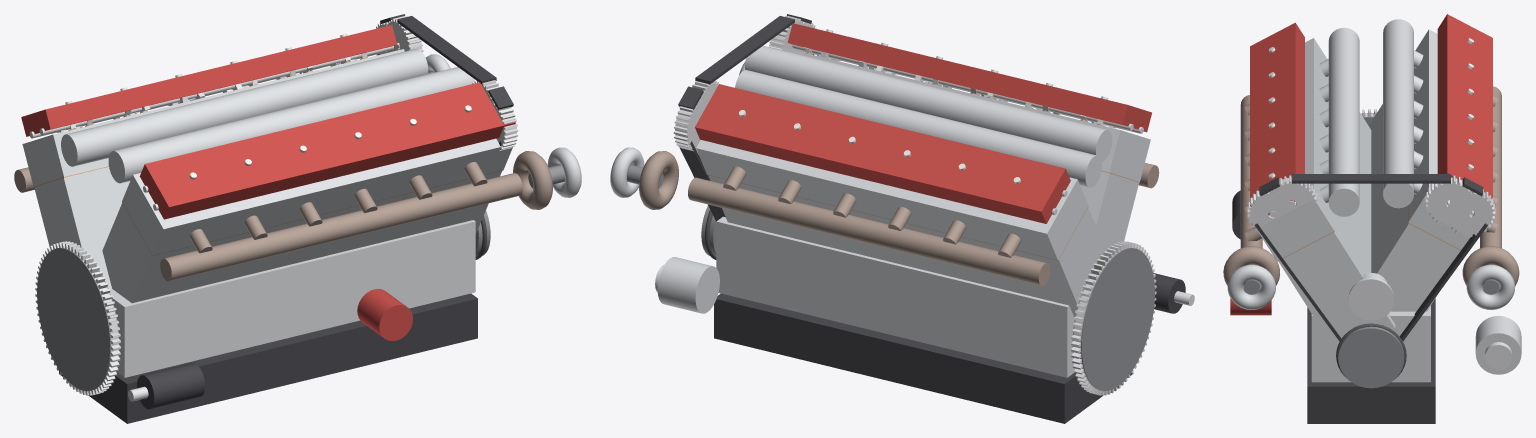
The model's file is combustion_12_v_60p0_8p6_8p6_dohc_4_si_correa_nafta.glb.
The picture shows the model from 3 angles, left to right: view 1: azimuth 30°, elevation 25°; view 2: azimuth 150°, elevation 25°; view 3: azimuth 270°, elevation 25°; orthographic projection. The views are drawn at different scales.
Visible parts, largest first — view 1: bloque, tapa_valvulas_1, carter, culata_1, multiple_admision_0, multiple_escape_1, volante_inercia, tapa_valvulas_0, multiple_admision_1, culata_0, turbo_1, motor_arranque (+5 smaller); view 2: bloque, tapa_valvulas_0, carter, culata_0, multiple_escape_0, multiple_admision_1, volante_inercia, multiple_admision_0, tapa_valvulas_1, turbo_0, culata_1, alternador (+5 smaller); view 3: bloque, tapa_valvulas_0, tapa_valvulas_1, multiple_admision_1, multiple_admision_0, carter, culata_1, distribucion_poleas, culata_0, polea_ciguenal, distribucion_correa, turbo_0 (+7 smaller).
Part boxes in pixels (x1,y1,x2,y2): bloque: (34, 167, 501, 377); tapa_valvulas_1: (139, 82, 515, 219); carter: (59, 293, 477, 423); culata_1: (122, 138, 512, 255); multiple_admision_0: (61, 49, 428, 166); multiple_escape_1: (160, 162, 522, 281); volante_inercia: (35, 241, 120, 395); tapa_valvulas_0: (21, 25, 396, 136); multiple_admision_1: (108, 67, 474, 183); culata_0: (22, 49, 404, 186); turbo_1: (513, 147, 581, 209); motor_arranque: (128, 363, 205, 409); bloque: (708, 171, 1138, 377); tapa_valvulas_0: (695, 84, 1070, 223); carter: (714, 293, 1133, 423); culata_0: (696, 140, 1088, 259); multiple_escape_0: (688, 166, 1050, 285); multiple_admision_1: (745, 46, 1112, 161); volante_inercia: (1071, 241, 1156, 395); multiple_admision_0: (735, 70, 1101, 187); tapa_valvulas_1: (787, 23, 1151, 132); turbo_0: (610, 147, 678, 209); culata_1: (769, 44, 1150, 181); alternador: (655, 257, 719, 313); bloque: (1278, 104, 1460, 382); tapa_valvulas_0: (1437, 14, 1492, 198); tapa_valvulas_1: (1250, 22, 1304, 215); multiple_admision_1: (1319, 27, 1359, 216); multiple_admision_0: (1383, 19, 1423, 208); carter: (1307, 298, 1435, 423); culata_1: (1256, 38, 1334, 260); distribucion_poleas: (1247, 175, 1495, 236); culata_0: (1408, 29, 1470, 249); polea_ciguenal: (1336, 323, 1406, 388); distribucion_correa: (1254, 174, 1487, 341); turbo_0: (1462, 246, 1519, 309).
Size of the model in its own units: 90.04 by 51.33 by 55.91.
